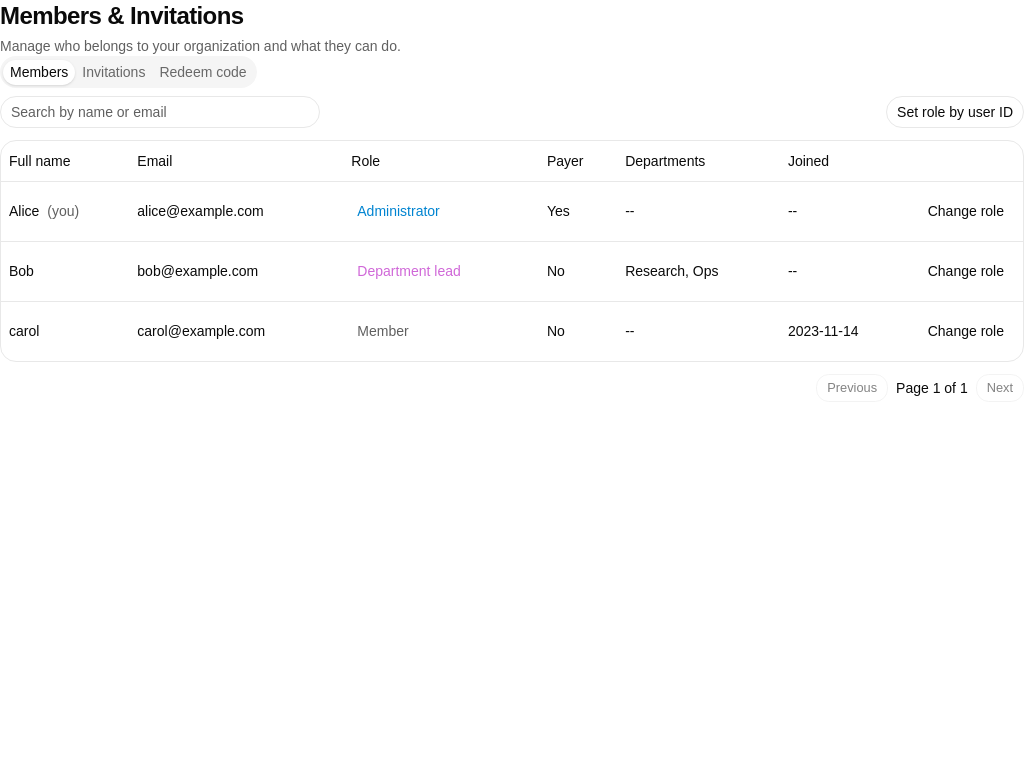
Test case: OrgMembersPage › creates an invite with the 72h default and offers the link
Expected: the text "Bob" is shown, top-left (1, 241), bottom-right (129, 301)
Click the tab "Invitations" at (114, 72), box top-left (75, 60), bottom-right (152, 84)
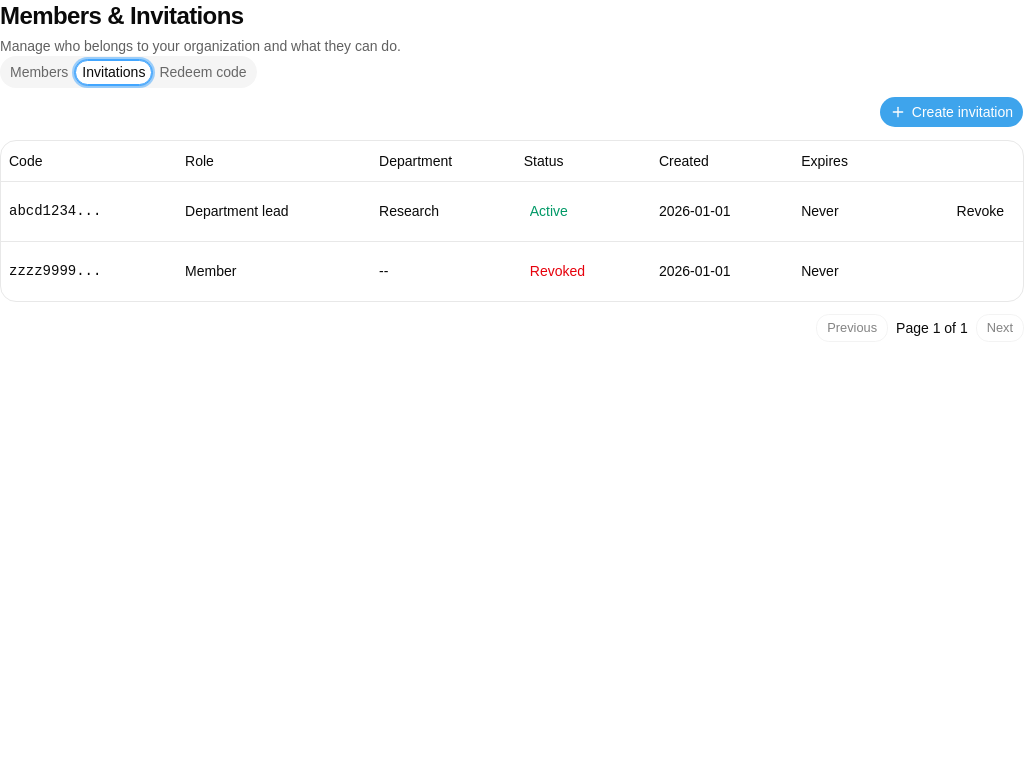
Expected: the text "abcd1234..." is shown, top-left (1, 181), bottom-right (177, 241)
Expected: the text "Active" is shown, top-left (530, 201), bottom-right (568, 222)
Expected: the text "Revoked" is shown, top-left (530, 261), bottom-right (585, 282)
Click the button "Create invitation" at (951, 112), box top-left (879, 96), bottom-right (1023, 128)
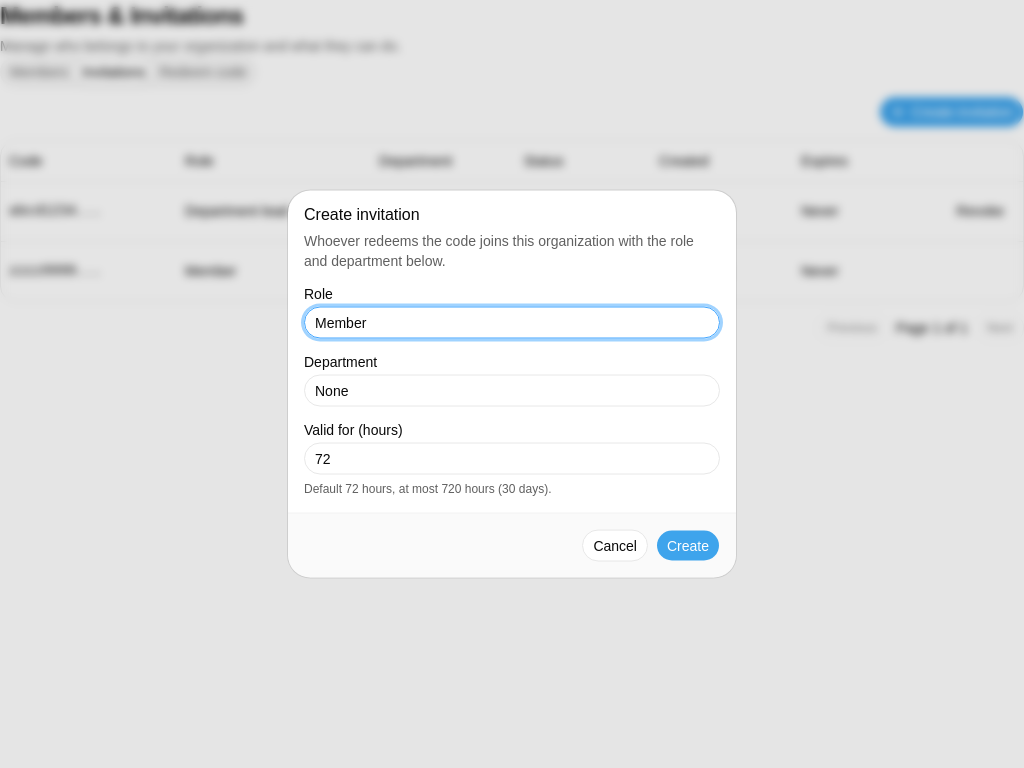
Click the button "Create" at (688, 546), box top-left (656, 530), bottom-right (720, 562)
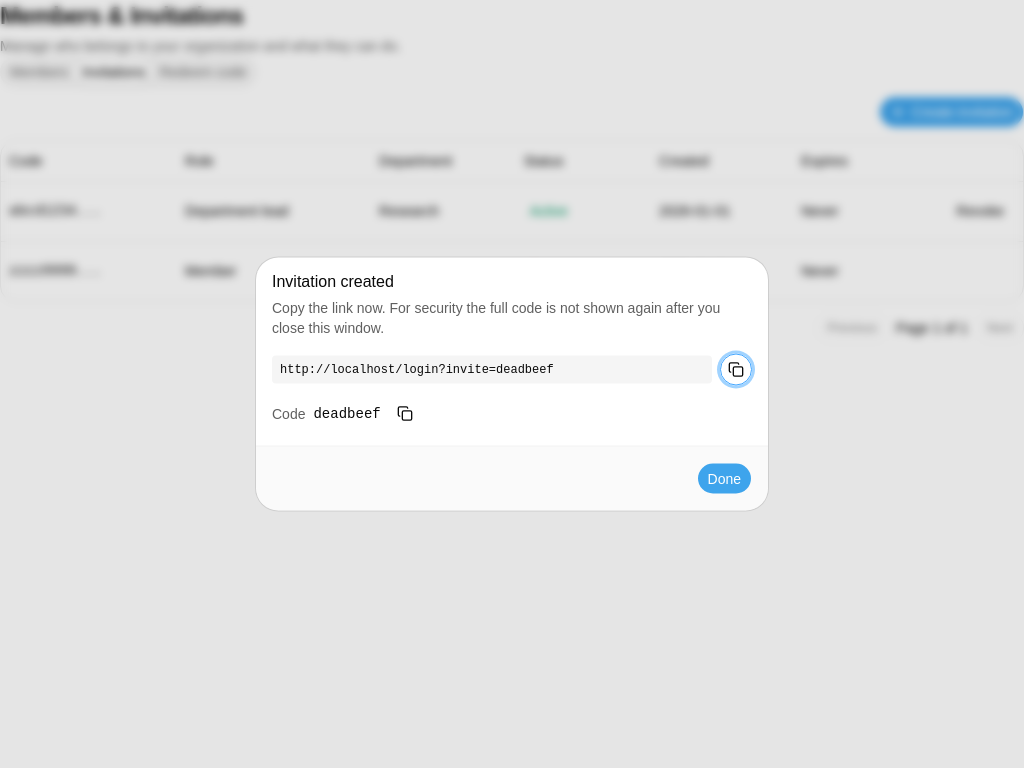
Expected: the text with test id "invite-link" shows "/login?invite=deadbeef", top-left (280, 362), bottom-right (554, 376)
